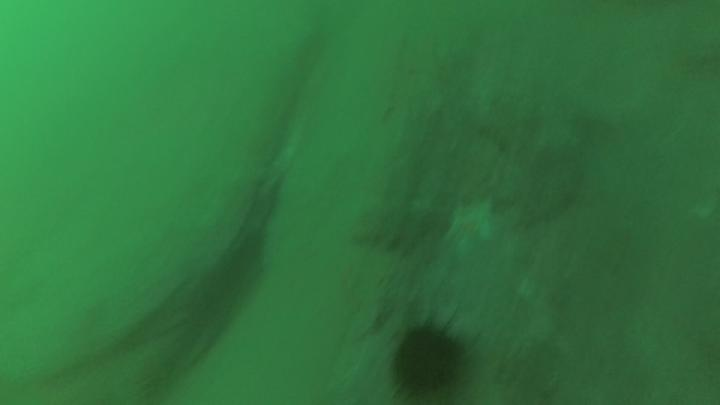echinus: (375, 295, 490, 405)
starfish: (446, 196, 504, 263)
